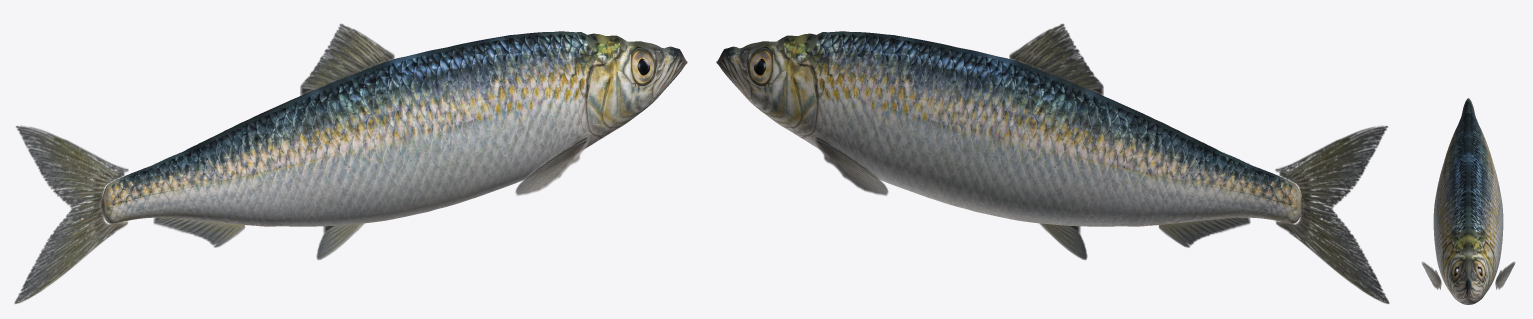
Rendered from clupea_harengus.glb.
3 renders of one model, left to right at view 1: azimuth 30°, elevation 25°; view 2: azimuth 150°, elevation 25°; view 3: azimuth 270°, elevation 25°, orthographic. The views are drawn at different scales.
Visible parts, largest first — view 1: clupea_harengus; view 2: clupea_harengus; view 3: clupea_harengus.
Part boxes in pixels (x1,y1,x2,y2): clupea_harengus: (14,24,687,303); clupea_harengus: (716,24,1389,303); clupea_harengus: (1421,98,1515,304).
Size of the model in its own units: 0.3005 by 0.0988 by 0.0588.
Materials: 1 (1 with a texture image).
